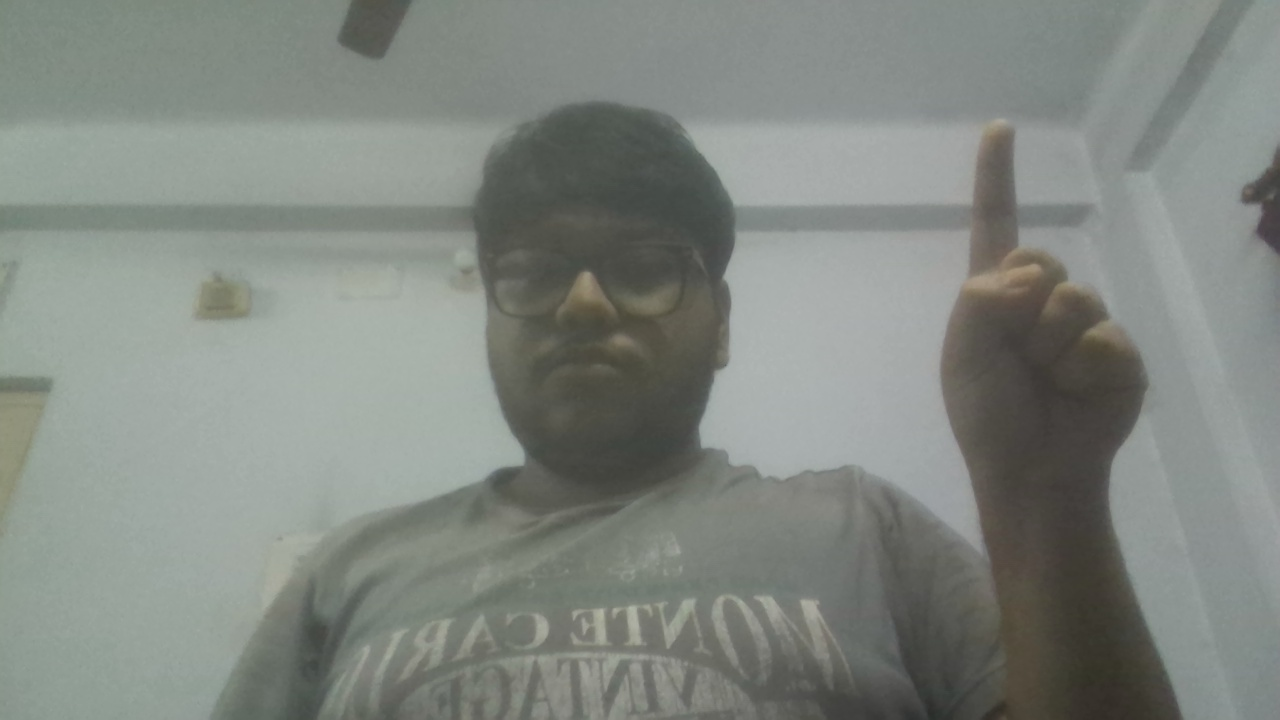Gesture1: (923, 108, 1161, 498)
